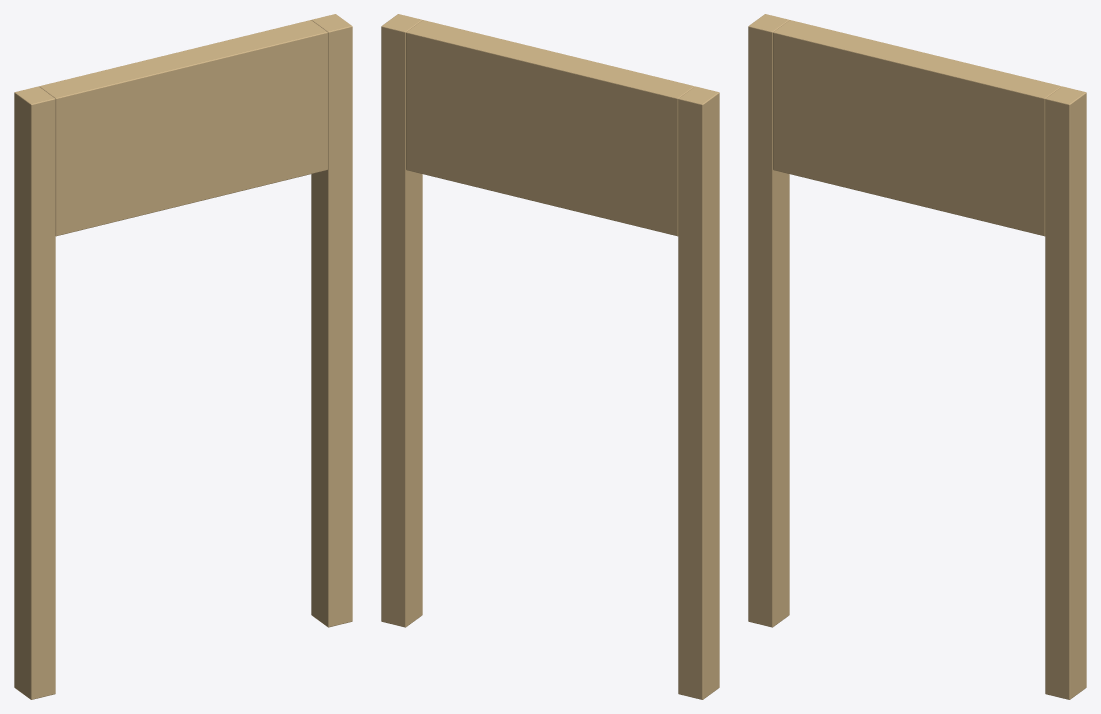
The model's file is wall_door_bay.glb.
3 views of the same model, side by side, from view 1: azimuth 30°, elevation 25°; view 2: azimuth 150°, elevation 25°; view 3: azimuth 330°, elevation 25° (orthographic).
Parts seen in each view (by area): view 1: KAClass_DoorBay_Header, KAClass_DoorBay_Jamb, KAClass_DoorBay_Jamb.001; view 2: KAClass_DoorBay_Header, KAClass_DoorBay_Jamb, KAClass_DoorBay_Jamb.001; view 3: KAClass_DoorBay_Header, KAClass_DoorBay_Jamb.001, KAClass_DoorBay_Jamb.
Part boxes in pixels (<box>): KAClass_DoorBay_Header: <box>39,20,327,236</box>; KAClass_DoorBay_Jamb: <box>14,86,55,699</box>; KAClass_DoorBay_Jamb.001: <box>311,14,352,627</box>; KAClass_DoorBay_Header: <box>406,20,694,236</box>; KAClass_DoorBay_Jamb: <box>678,86,719,699</box>; KAClass_DoorBay_Jamb.001: <box>381,14,422,627</box>; KAClass_DoorBay_Header: <box>773,20,1061,236</box>; KAClass_DoorBay_Jamb.001: <box>1045,86,1086,699</box>; KAClass_DoorBay_Jamb: <box>748,14,789,627</box>.
Size of the model in its own units: 1.95 by 3.45 by 0.18.
